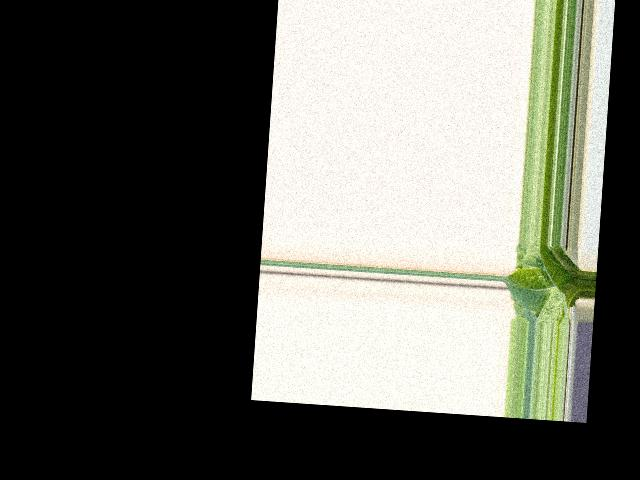lettuce: (507, 244, 583, 317)
